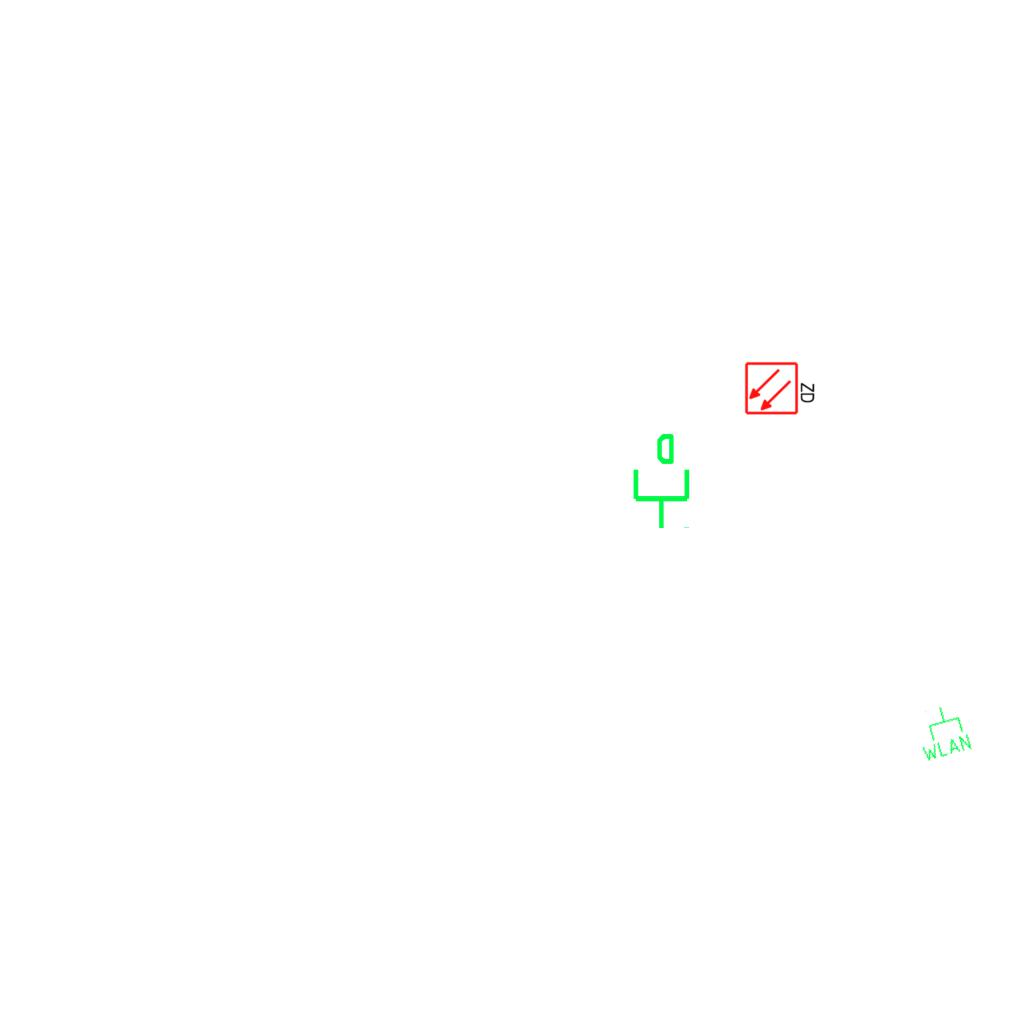Datenanschluss_einfach: (625, 431, 694, 531)
WLAN: (909, 699, 975, 765)
ZD_Melder_in_Zwischendecke_mit_Revisionsoeffnung_mind_40_x_40_cm: (744, 359, 818, 416)
